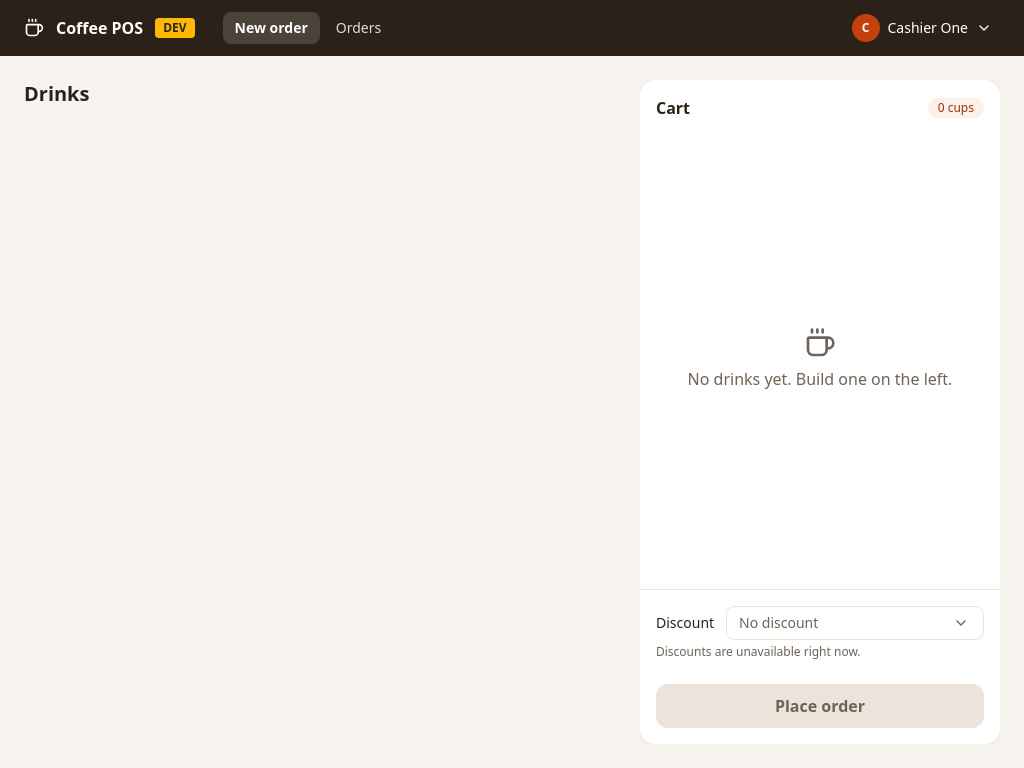
UserMenu › closes on Escape and returns focus to the button
Click the button "C Cashier One".
click(924, 28)  # box 848,10 -> 1000,46
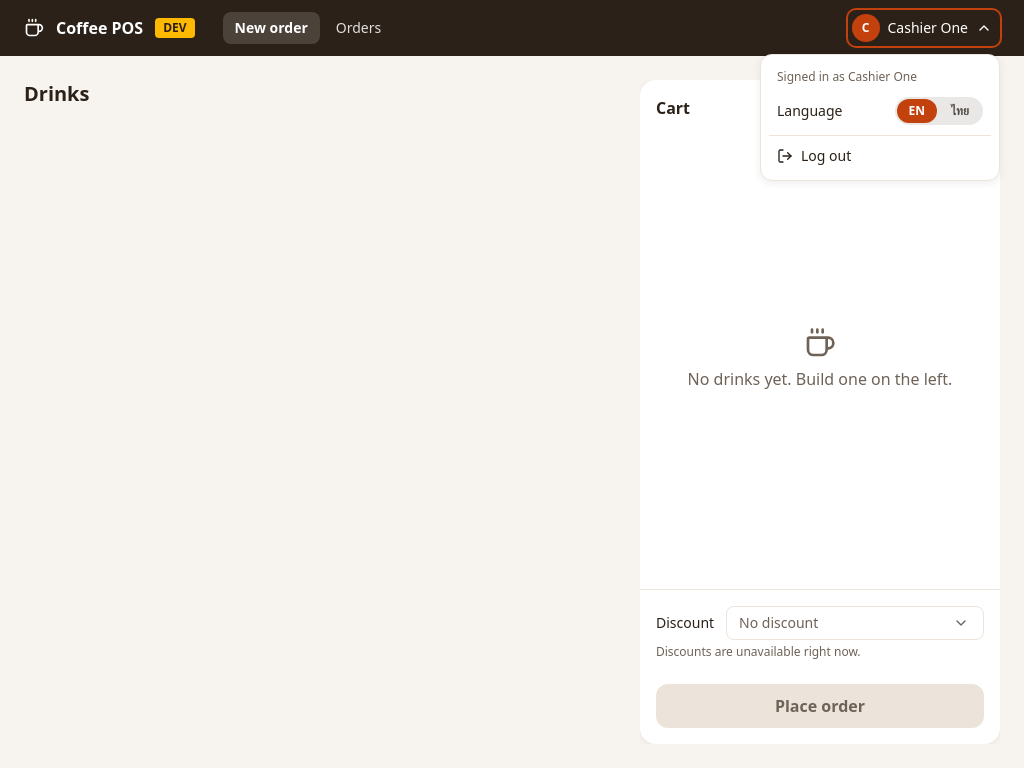
Press Escape
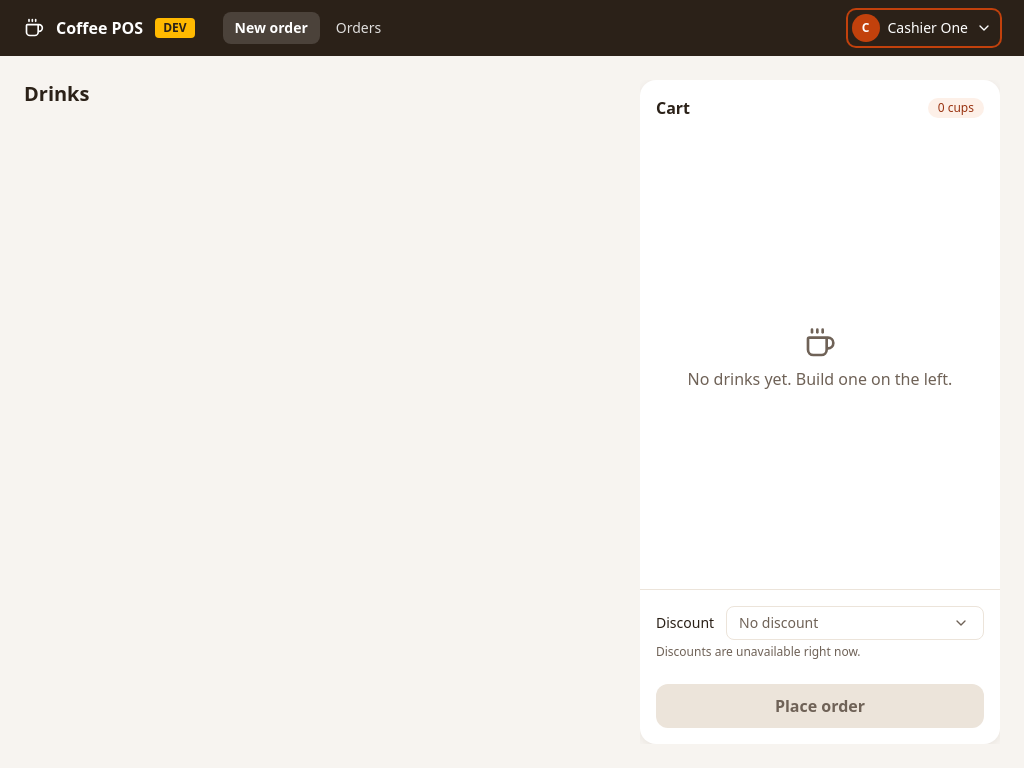
Expected: the button "C Cashier One" is collapsed, 848,10 -> 1000,46
Expected: the button "Log out" is gone
